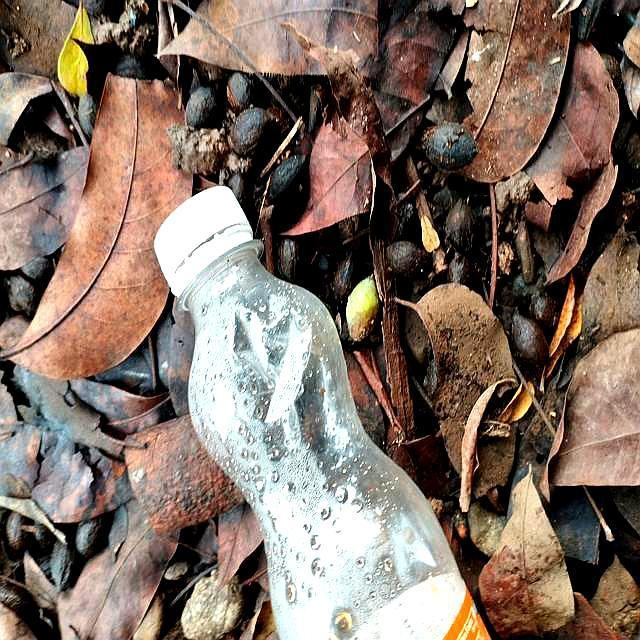Non-biodegradable: (125, 153, 503, 640)
